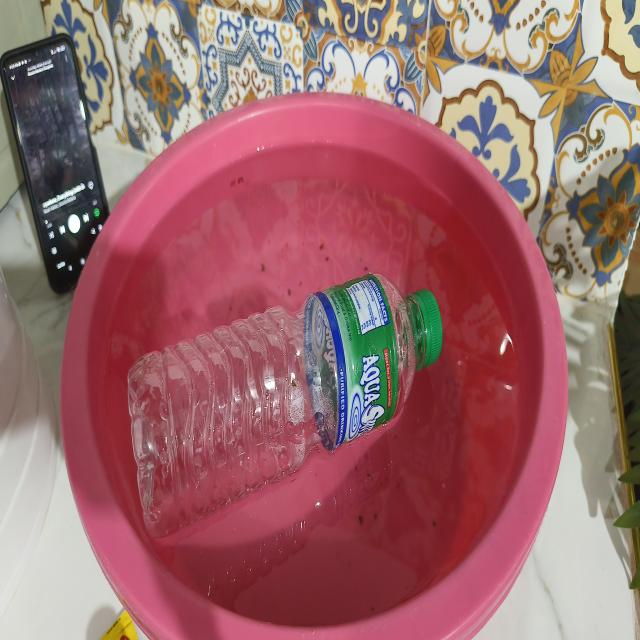Plastic Bottle: (119, 256, 453, 561)
